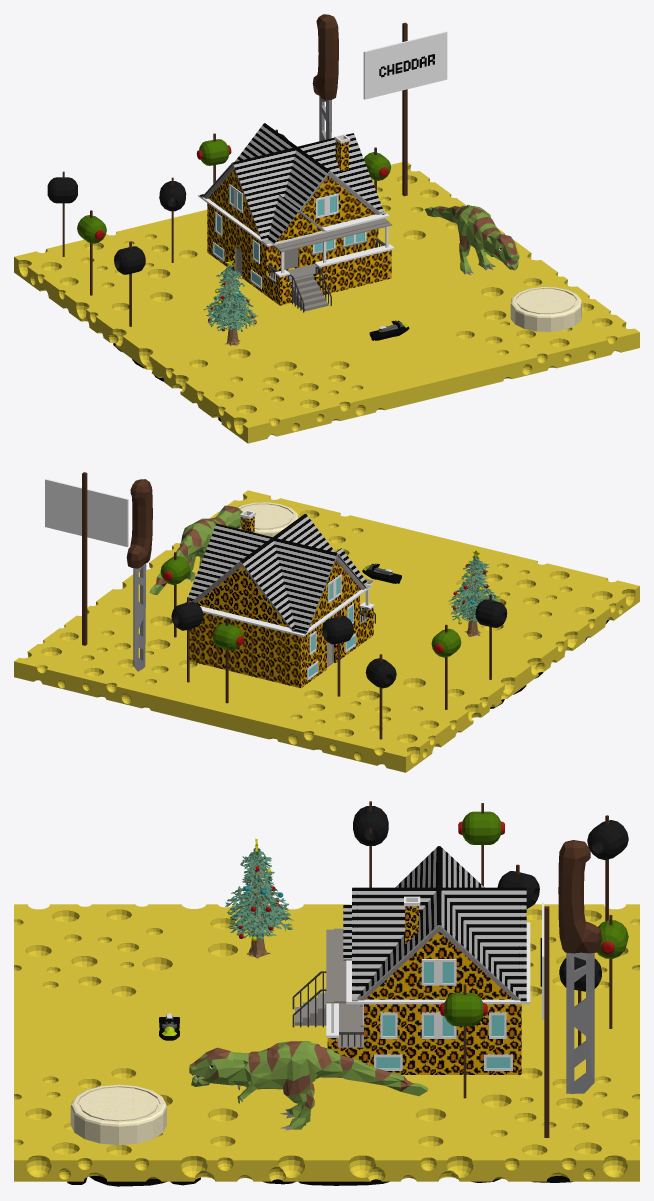
The picture shows the model from 3 angles, top to bottom: view 1: azimuth 30°, elevation 25°; view 2: azimuth 150°, elevation 25°; view 3: azimuth 270°, elevation 25°; orthographic projection. The views are drawn at different scales.
Visible parts, largest first — view 1: Cube.022, Cube.637, Cube.023, ANIMAL_TREX, Cylinder.016, Cube.024, OBJRANDOM_CHRISTMAS_TREE, Sphere.017, Sphere.016, Sphere.020, Sphere.018, Sphere.022 (+1 smaller); view 2: Cube.022, Cube.637, Cube.023, Cube.024, ANIMAL_TREX, OBJRANDOM_CHRISTMAS_TREE, Cylinder.016, Sphere.020, Sphere.016, Sphere.022, Sphere.017, Sphere.021 (+3 smaller); view 3: Cube.022, Cube.637, ANIMAL_TREX, Cube.024, Cylinder.016, OBJRANDOM_CHRISTMAS_TREE, Cube.023, Sphere.019, Sphere.016, Sphere.018, Curve.014, Sphere.017 (+3 smaller).
Part boxes in pixels (x1=…): Cube.022: x1=14, y1=162, x2=639, y2=443; Cube.637: x1=198, y1=123, x2=394, y2=312; Cube.023: x1=363, y1=22, x2=447, y2=196; ANIMAL_TREX: x1=425, y1=205, x2=519, y2=275; Cylinder.016: x1=510, y1=287, x2=581, y2=331; Cube.024: x1=312, y1=14, x2=338, y2=141; OBJRANDOM_CHRISTMAS_TREE: x1=204, y1=259, x2=258, y2=345; Sphere.017: x1=114, y1=241, x2=145, y2=326; Sphere.016: x1=47, y1=171, x2=77, y2=256; Sphere.020: x1=159, y1=177, x2=186, y2=262; Sphere.018: x1=77, y1=210, x2=106, y2=295; Sphere.022: x1=196, y1=133, x2=231, y2=183; Cube.022: x1=14, y1=490, x2=639, y2=772; Cube.637: x1=185, y1=510, x2=375, y2=688; Cube.023: x1=45, y1=472, x2=128, y2=645; Cube.024: x1=126, y1=479, x2=152, y2=671; ANIMAL_TREX: x1=149, y1=505, x2=242, y2=594; OBJRANDOM_CHRISTMAS_TREE: x1=448, y1=550, x2=499, y2=637; Cylinder.016: x1=237, y1=502, x2=298, y2=537; Sphere.020: x1=322, y1=611, x2=353, y2=696; Sphere.016: x1=365, y1=654, x2=396, y2=739; Sphere.022: x1=212, y1=618, x2=243, y2=703; Sphere.017: x1=475, y1=594, x2=507, y2=679; Sphere.021: x1=171, y1=597, x2=203, y2=682; Cube.022: x1=14, y1=904, x2=639, y2=1181; Cube.637: x1=292, y1=846, x2=530, y2=1074; ANIMAL_TREX: x1=189, y1=1041, x2=428, y2=1130; Cube.024: x1=558, y1=840, x2=602, y2=1093; Cylinder.016: x1=70, y1=1084, x2=166, y2=1145; OBJRANDOM_CHRISTMAS_TREE: x1=225, y1=838, x2=293, y2=959; Cube.023: x1=540, y1=902, x2=549, y2=1137; Sphere.019: x1=440, y1=984, x2=487, y2=1098; Sphere.016: x1=587, y1=815, x2=628, y2=920; Sphere.018: x1=458, y1=803, x2=504, y2=886; Curve.014: x1=67, y1=1176, x2=572, y2=1186; Sphere.017: x1=353, y1=801, x2=388, y2=887.
Size of the model in its own units: 3917 by 1980 by 4000.
Materials: 33 (4 with a texture image).
